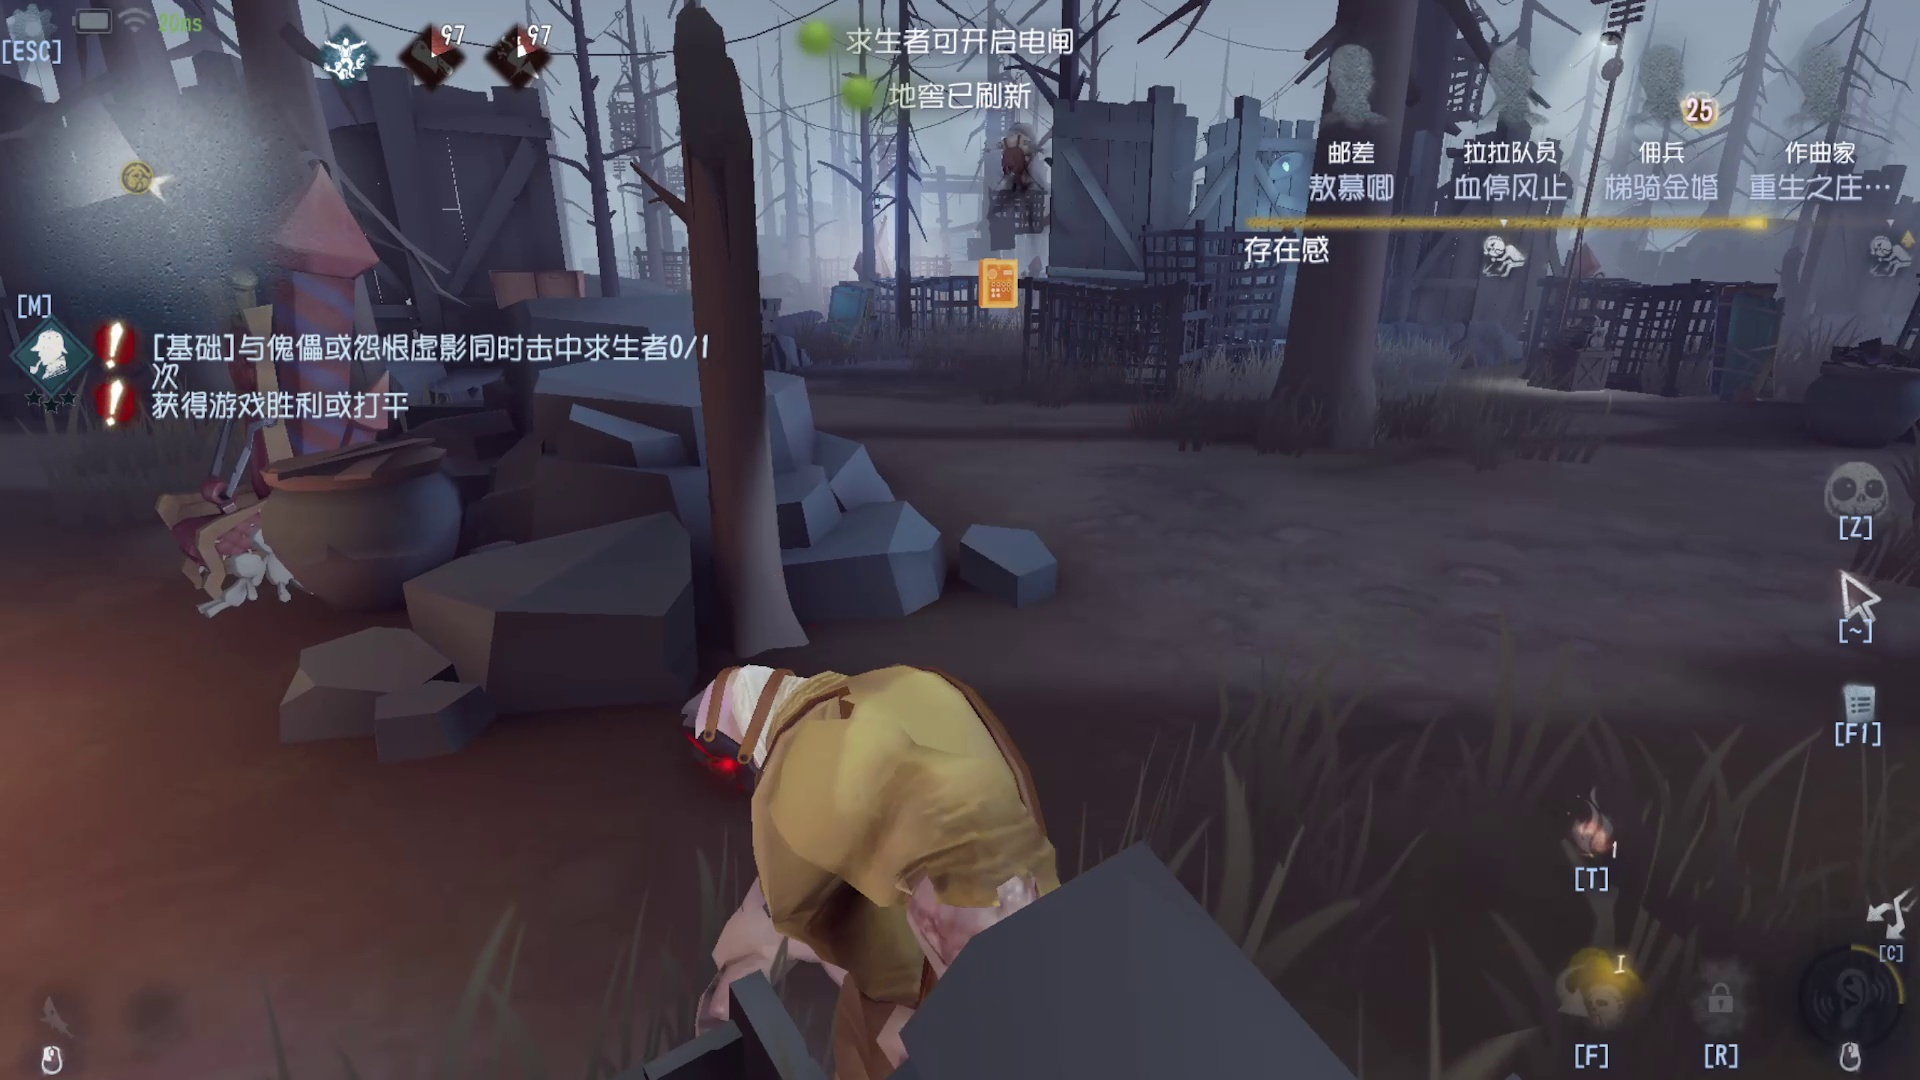技能: (1505, 771, 1665, 924)
木板: (796, 260, 881, 360)
狂欢之椅: (152, 156, 400, 609)
设置: (1, 1, 86, 75)
